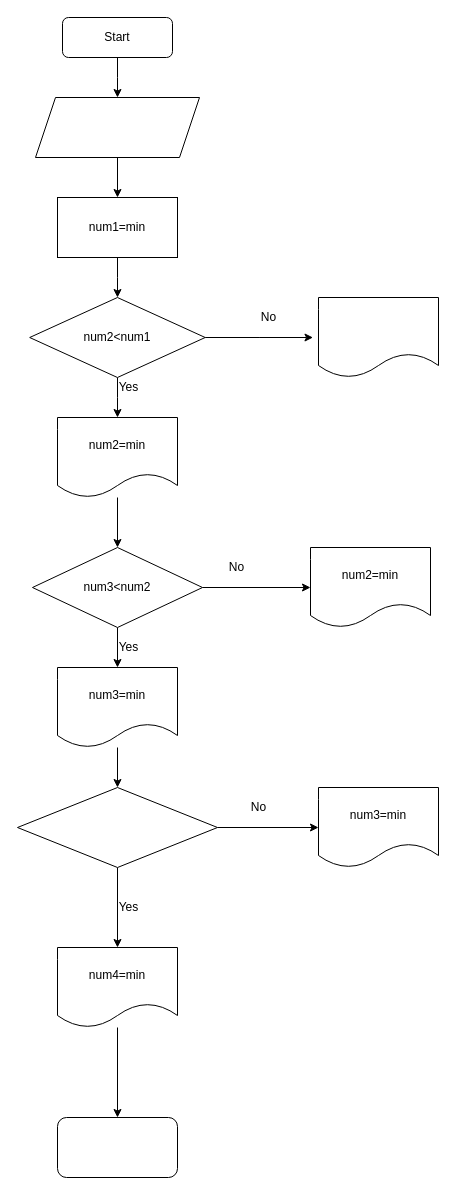
The diagram is 456 pixels wide and 1195 high, and some of its shapes have lost their labels. Here are the shapes that lost their labels. From the top down, the box of each, then its label:
(34, 96, 200, 158): num1,num2,num3,num4
(318, 296, 438, 378): num1=1
(16, 786, 218, 868): num4<num3
(56, 1116, 178, 1178): Finish
